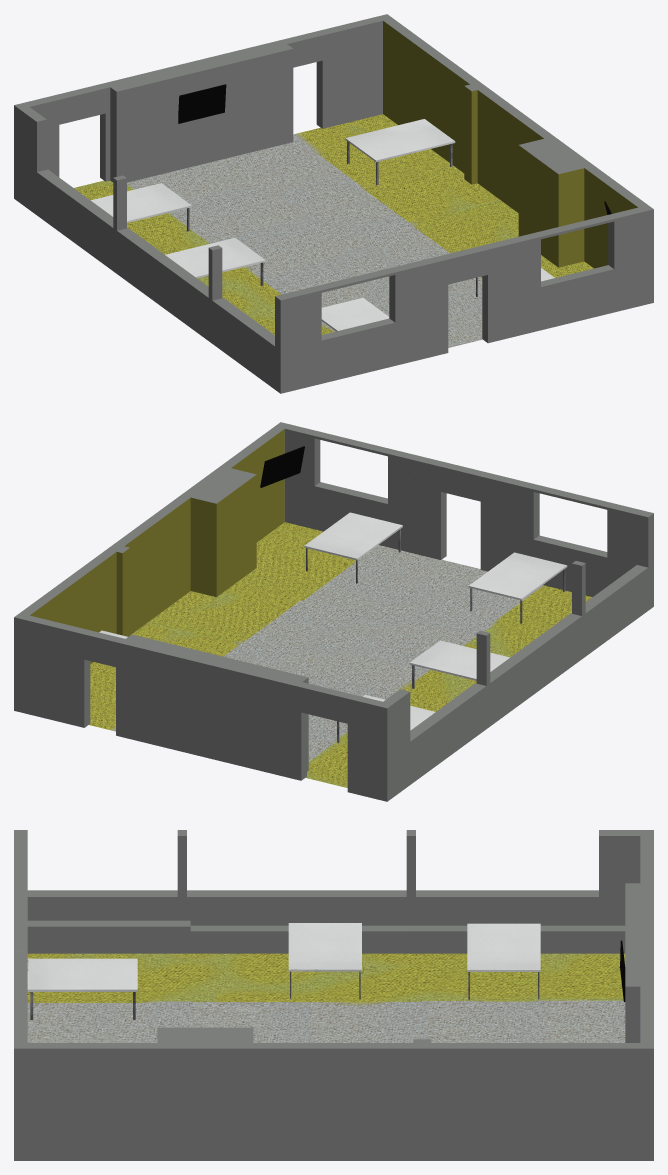
File: labmodel.glb
3 views of the same model, one above another, from view 1: azimuth 30°, elevation 25°; view 2: azimuth 150°, elevation 25°; view 3: azimuth 270°, elevation 25° (orthographic). The views are drawn at different scales.
Visible parts, largest first — view 1: Cube, Plane, Cube.002, Cube.003, Cube.001, Cube.005, TV.001; view 2: Cube, Plane, Cube.005, Cube.004, Cube.003, TV; view 3: Cube, Plane, Cube.005, Cube.001, Cube.003.
Boxes of the visible parts, left/top/right/bottom form: Cube: left=14, top=14, right=653, bottom=393; Plane: left=74, top=114, right=593, bottom=347; Cube.002: left=345, top=119, right=455, bottom=185; Cube.003: left=165, top=238, right=265, bottom=286; Cube.001: left=91, top=183, right=191, bottom=231; Cube.005: left=321, top=298, right=389, bottom=331; TV.001: left=178, top=84, right=226, bottom=123; Cube: left=14, top=422, right=653, bottom=801; Plane: left=89, top=522, right=592, bottom=787; Cube.005: left=468, top=552, right=567, bottom=623; Cube.004: left=304, top=512, right=402, bottom=583; Cube.003: left=409, top=640, right=509, bottom=688; TV: left=260, top=446, right=304, bottom=487; Cube: left=14, top=830, right=653, bottom=1160; Plane: left=27, top=953, right=625, bottom=1042; Cube.005: left=27, top=958, right=137, bottom=1019; Cube.001: left=467, top=923, right=540, bottom=999; Cube.003: left=288, top=923, right=361, bottom=999.
Bounding box in the file's own units: 11.3 × 2.7 × 13.98.
Materials: 4 (4 with a texture image).
